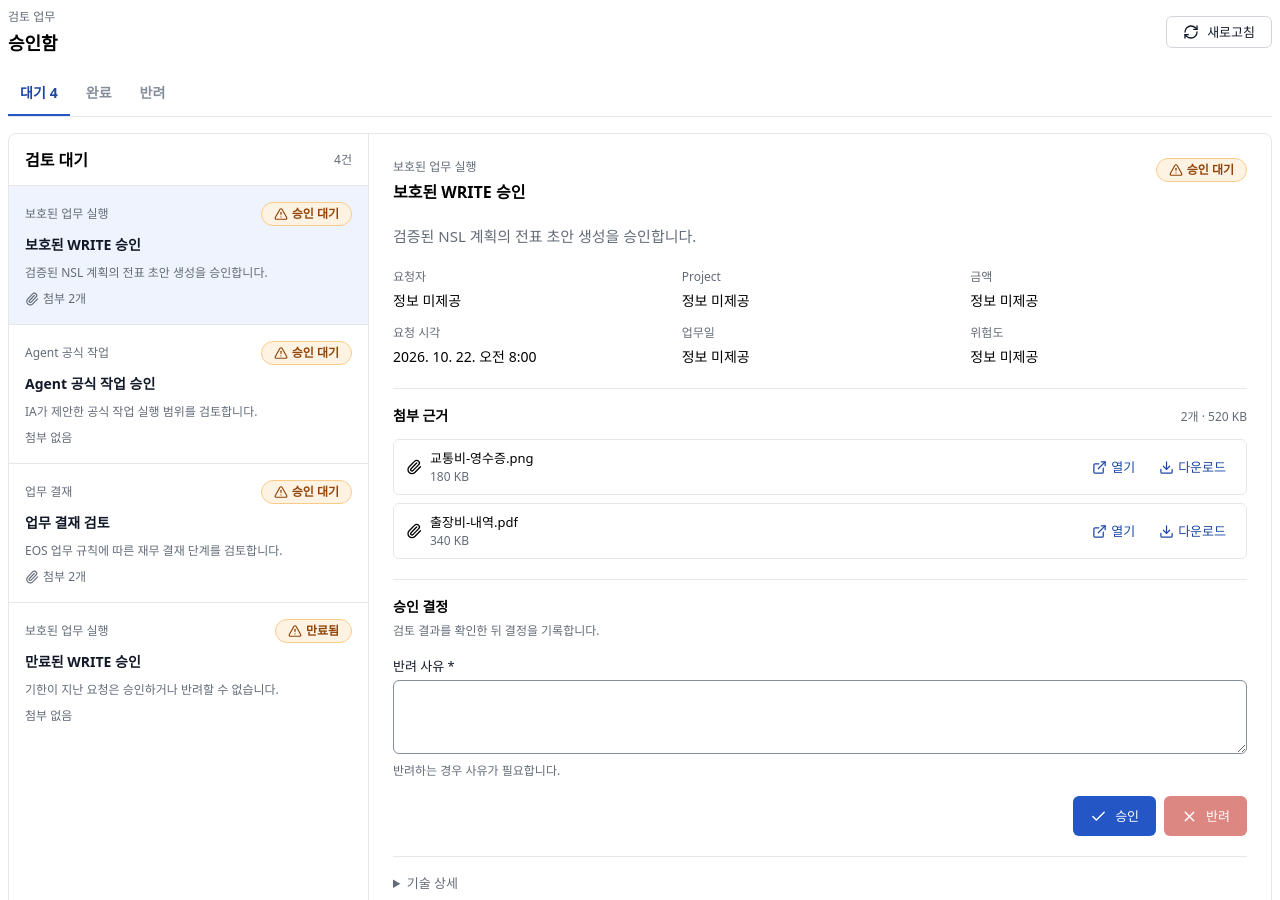
Test case: Approval Inbox React surface › maps APPROVAL_DECISION_CONFLICT decision failures to safe guidance
This screenshot has width=1280, height=900.
Check: the heading "보호된 WRITE 승인" is shown, box x1=393 y1=180 x2=525 y2=204
Click the button "승인" at coordinates (1115, 816), box x1=1073 y1=796 x2=1156 y2=836
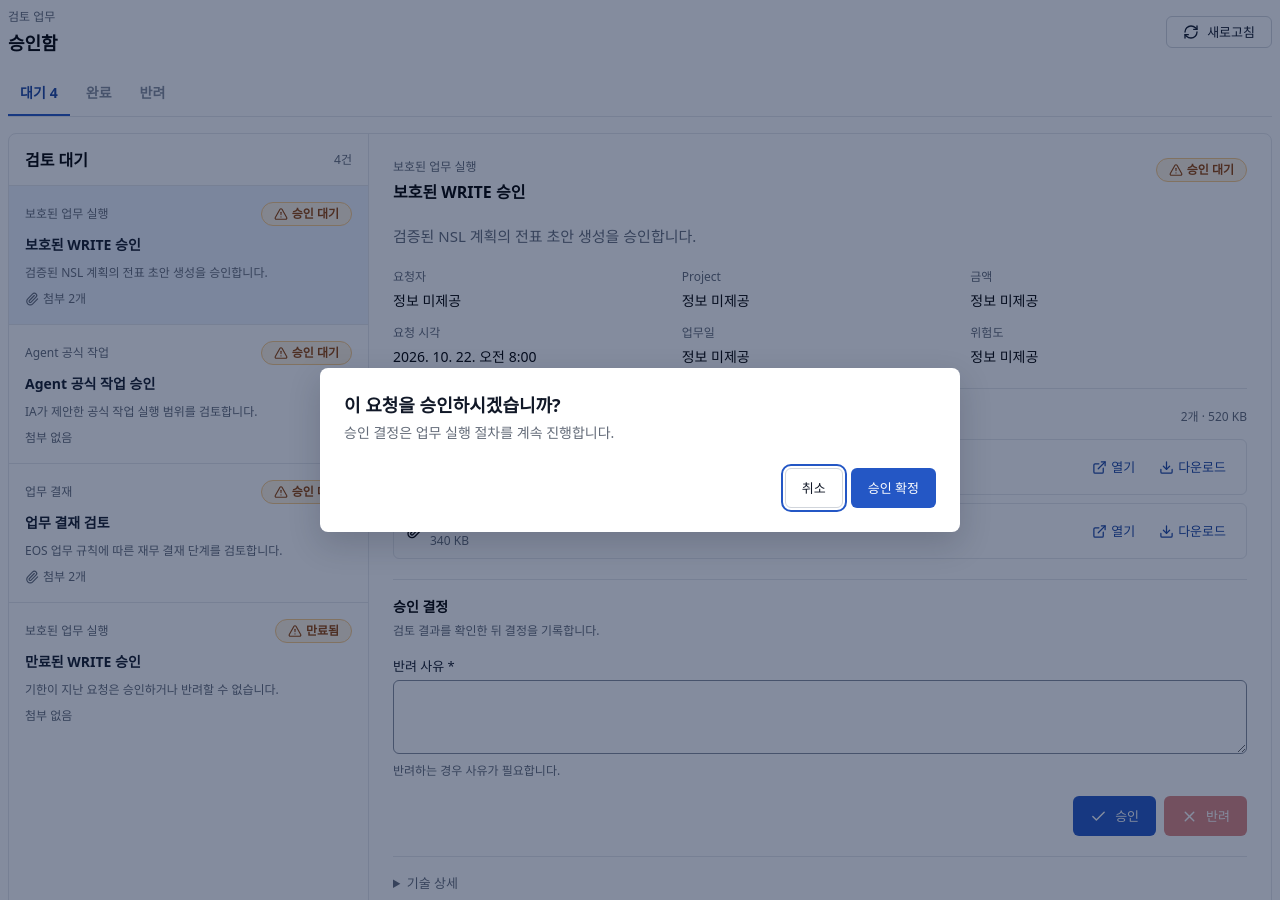
Click the button "승인 확정" at coordinates (893, 488), box x1=851 y1=468 x2=936 y2=508
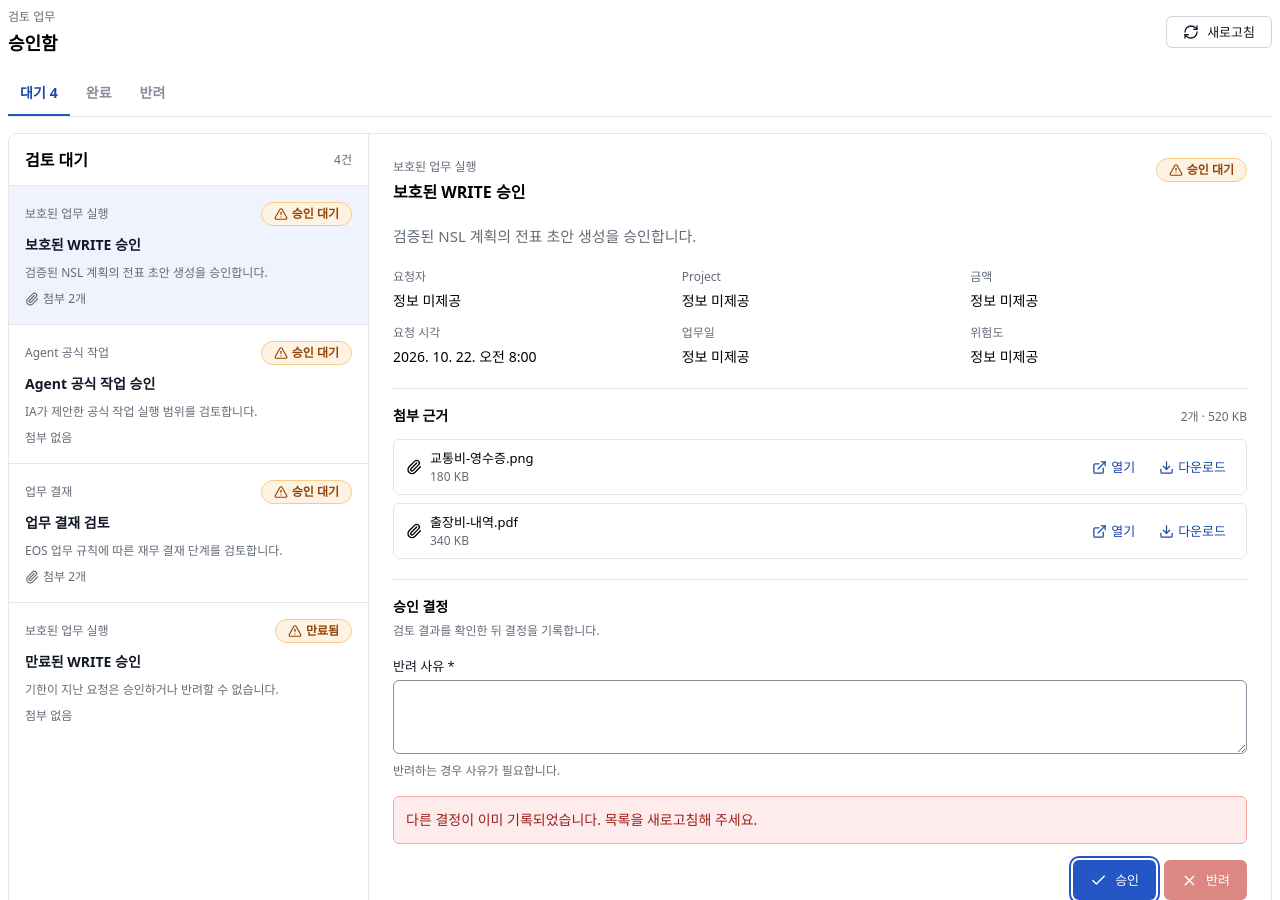
Check: the message does not show "protected backend detail", box x1=393 y1=796 x2=1247 y2=844
Check: the message shows "다른 결정이 이미 기록되었습니다.", box x1=406 y1=810 x2=757 y2=829
